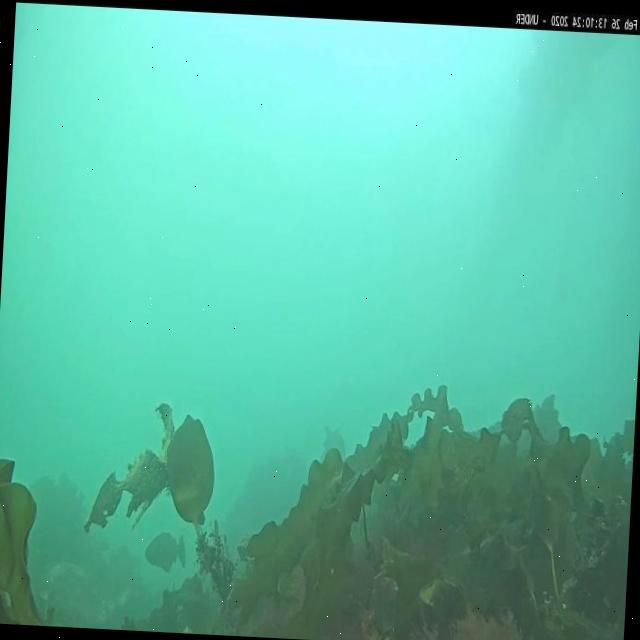fish: (143, 528, 187, 574)
